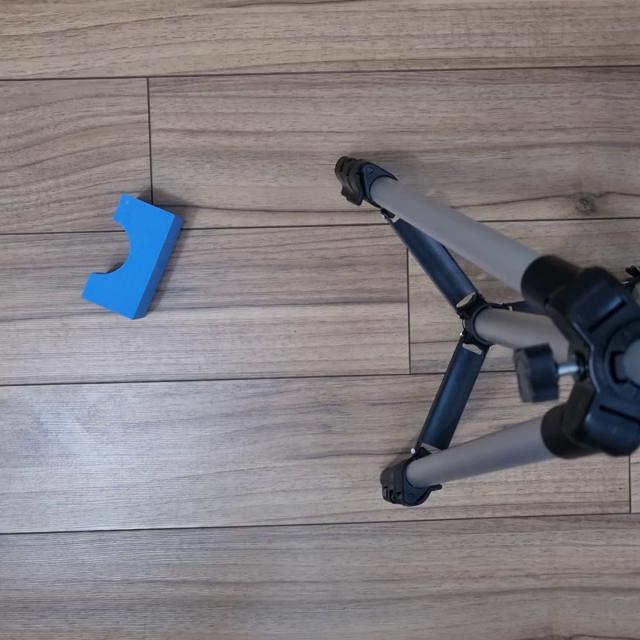block: (72, 168, 195, 347)
